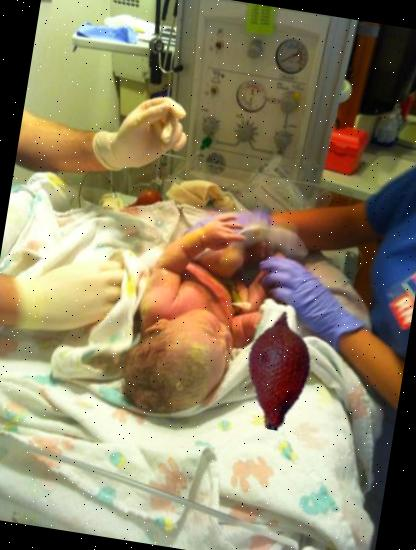Salak: (210, 303, 348, 440)
